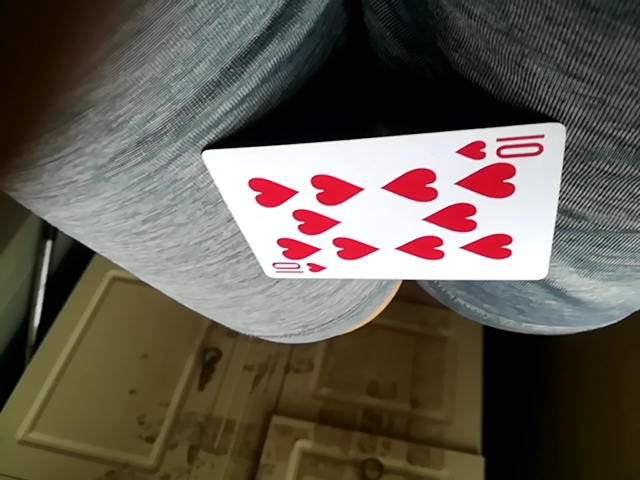hx 10: (201, 122, 564, 279)
